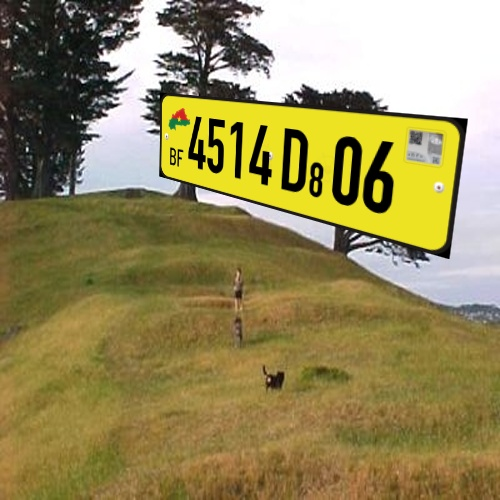plate: (148, 78, 475, 270)
